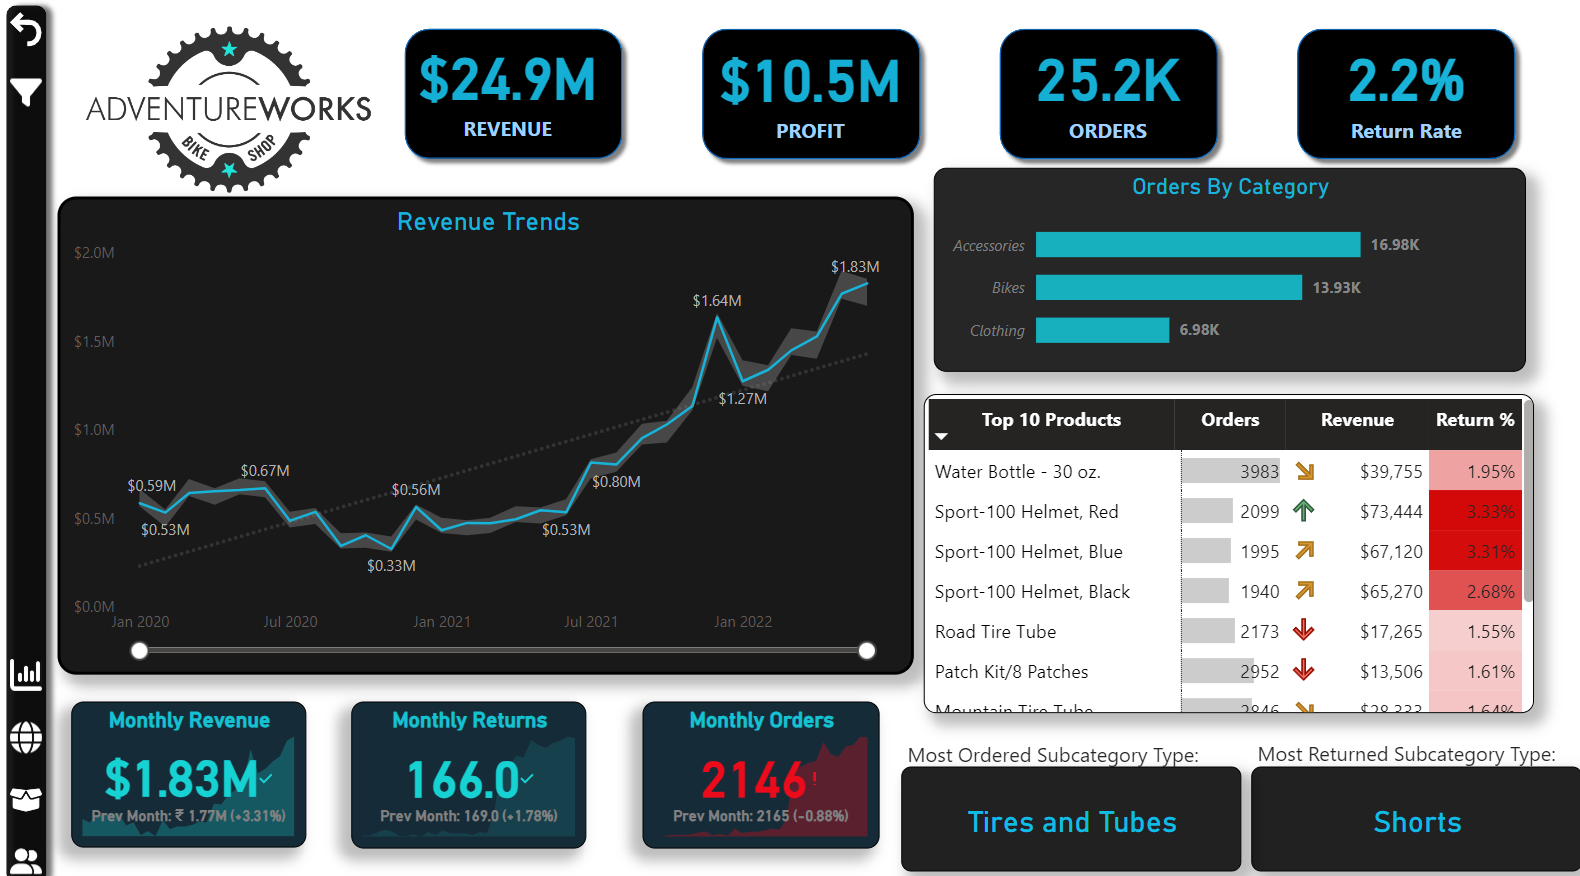

Layout of this report page (visuals, bound fields, positions):
{"tool":"powerbi","page":{"name":"Executive DashBoard","canvas":[1280,720],"ordinal":0},"visuals":[{"type":"image","title":"AW logo","box":[43.2,0,288.6,184.1],"z":0},{"type":"card","fields":{"Values":["Measure Table.Total Revenue"]},"box":[303.2,7.7,214.5,131.6],"z":0,"group":"g2"},{"type":"group","id":"g1","title":"KPIs BG","box":[319.8,19.3,904,119.8],"z":0,"group":"g3"},{"type":"shape","box":[795.6,19.3,190,119.8],"z":0,"group":"g1"},{"type":"shape","title":"Navigation Bar","box":[0,0,50.1,720],"z":1000},{"type":"group","id":"g2","title":"KPIs Indicators","box":[303.2,7.7,934,133],"z":1000,"group":"g3"},{"type":"card","fields":{"Values":["Measure Table.Return Rate"]},"box":[1020.7,9.6,216.4,129.7],"z":1000,"group":"g2"},{"type":"shape","box":[319.8,19.3,189.5,119.6],"z":1000,"group":"g1"},{"type":"group","id":"g3","title":"KPIs","box":[303.2,7.7,934,133],"z":2000},{"type":"card","fields":{"Values":["Measure Table.All Orders"]},"box":[783.2,9.6,215,129.7],"z":2000,"group":"g2"},{"type":"shape","box":[1033.8,19.3,190,119.8],"z":2000,"group":"g1"},{"type":"card","fields":{"Values":["Measure Table.Total Profit"]},"box":[545.6,9.6,215,131.1],"z":3000,"group":"g2"},{"type":"shape","box":[557.5,19.3,190,119.8],"z":3000,"group":"g1"},{"type":"lineChart","title":"Revenue Trends","fields":{"Y":["Measure Table.Total Revenue"],"Category":["Calendar Lookup.Start of Month"]},"box":[50.2,161.9,684.7,382.3],"z":3000},{"type":"kpi","title":"Monthly Revenue","fields":{"Indicator":["Measure Table.Total Revenue"],"Goal":["Measure Table.Previous Month Revenue"],"TrendLine":["Calendar Lookup.Date Hierarchy.Start of Month"]},"box":[60.9,565.9,187.7,116.9],"z":4000},{"type":"kpi","title":"Monthly Orders","fields":{"TrendLine":["Calendar Lookup.Date Hierarchy.Start of Month"],"Goal":["Measure Table.Previous Month Orders"],"Indicator":["Measure Table.Total Order"]},"box":[517.8,565.7,189.4,117.5],"z":5000},{"type":"kpi","title":"Monthly Returns","fields":{"TrendLine":["Calendar Lookup.Date Hierarchy.Start of Month"],"Indicator":["Measure Table.Total Returns"],"Goal":["Measure Table.Previous Month Returns"]},"box":[285.2,565.7,188.2,117.5],"z":6000},{"type":"clusteredBarChart","title":"Orders By Category","fields":{"Category":["Product Categories Lookup.CategoryName"],"Y":["Measure Table.Total Order"]},"box":[750.3,139.4,473.5,163],"z":7000},{"type":"pivotTable","fields":{"Rows":["Product Lookup.ProductName"],"Values":["Measure Table.Total Order","Measure Table.Total Revenue","Measure Table.Return Rate"]},"box":[743.1,320,487.8,255.3],"z":8000},{"type":"card","fields":{"Values":["Min(Product Subcategories Lookup.SubcategoryName)"]},"box":[725.1,617.2,272.1,83.9],"z":9000},{"type":"textbox","box":[725.1,589.7,251.7,53.9],"z":10000},{"type":"card","fields":{"Values":["Min(Product Subcategories Lookup.SubcategoryName)"]},"box":[1004.3,617.2,264.9,83.9],"z":11000},{"type":"textbox","box":[1004.3,590.9,250.5,52.7],"z":12000},{"type":"actionButton","box":[7.2,9.6,36,36],"z":13000},{"type":"actionButton","box":[8.4,527.3,61.1,33.6],"z":14000},{"type":"actionButton","box":[8.4,627.2,61.1,33.6],"z":15000},{"type":"actionButton","box":[8.4,677.2,61.1,33.6],"z":16000},{"type":"actionButton","box":[8.4,577.3,61.1,33.6],"z":17000},{"type":"actionButton","box":[8.4,62.3,34.8,33.6],"z":18000}]}

Visuals, with their boxes on the page's 1280x720 design canvas (x1, y1, x2, y2). These are canvas units, not pixel positions in the 1580x876 screenshot, which may show the page scaled, cropped or inside an application window:
"AW logo" image: {"left": 43, "top": 0, "right": 332, "bottom": 184}
card - Measure Table.Total Revenue: {"left": 303, "top": 8, "right": 518, "bottom": 139}
"KPIs BG" group: {"left": 320, "top": 19, "right": 1224, "bottom": 139}
shape: {"left": 796, "top": 19, "right": 986, "bottom": 139}
"Navigation Bar" shape: {"left": 0, "top": 0, "right": 50, "bottom": 720}
"KPIs Indicators" group: {"left": 303, "top": 8, "right": 1237, "bottom": 141}
card - Measure Table.Return Rate: {"left": 1021, "top": 10, "right": 1237, "bottom": 139}
shape: {"left": 320, "top": 19, "right": 509, "bottom": 139}
"KPIs" group: {"left": 303, "top": 8, "right": 1237, "bottom": 141}
card - Measure Table.All Orders: {"left": 783, "top": 10, "right": 998, "bottom": 139}
shape: {"left": 1034, "top": 19, "right": 1224, "bottom": 139}
card - Measure Table.Total Profit: {"left": 546, "top": 10, "right": 761, "bottom": 141}
shape: {"left": 558, "top": 19, "right": 748, "bottom": 139}
"Revenue Trends" lineChart: {"left": 50, "top": 162, "right": 735, "bottom": 544}
"Monthly Revenue" kpi: {"left": 61, "top": 566, "right": 249, "bottom": 683}
"Monthly Orders" kpi: {"left": 518, "top": 566, "right": 707, "bottom": 683}
"Monthly Returns" kpi: {"left": 285, "top": 566, "right": 473, "bottom": 683}
"Orders By Category" clusteredBarChart: {"left": 750, "top": 139, "right": 1224, "bottom": 302}
pivotTable - Product Lookup.ProductName x Measure Table.Total Order: {"left": 743, "top": 320, "right": 1231, "bottom": 575}
card - Min(Product Subcategories Lookup.SubcategoryName): {"left": 725, "top": 617, "right": 997, "bottom": 701}
textbox: {"left": 725, "top": 590, "right": 977, "bottom": 644}
card - Min(Product Subcategories Lookup.SubcategoryName): {"left": 1004, "top": 617, "right": 1269, "bottom": 701}
textbox: {"left": 1004, "top": 591, "right": 1255, "bottom": 644}
actionButton: {"left": 7, "top": 10, "right": 43, "bottom": 46}
actionButton: {"left": 8, "top": 527, "right": 70, "bottom": 561}
actionButton: {"left": 8, "top": 627, "right": 70, "bottom": 661}
actionButton: {"left": 8, "top": 677, "right": 70, "bottom": 711}
actionButton: {"left": 8, "top": 577, "right": 70, "bottom": 611}
actionButton: {"left": 8, "top": 62, "right": 43, "bottom": 96}
